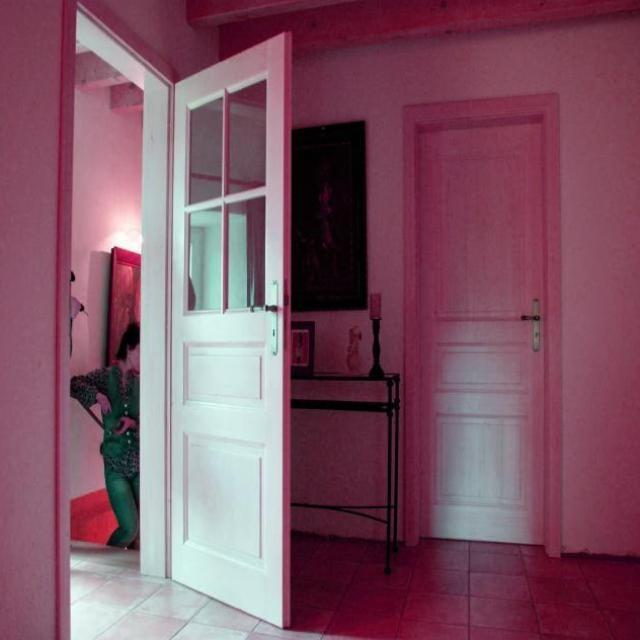door: (167, 30, 290, 628), (401, 93, 559, 549)
